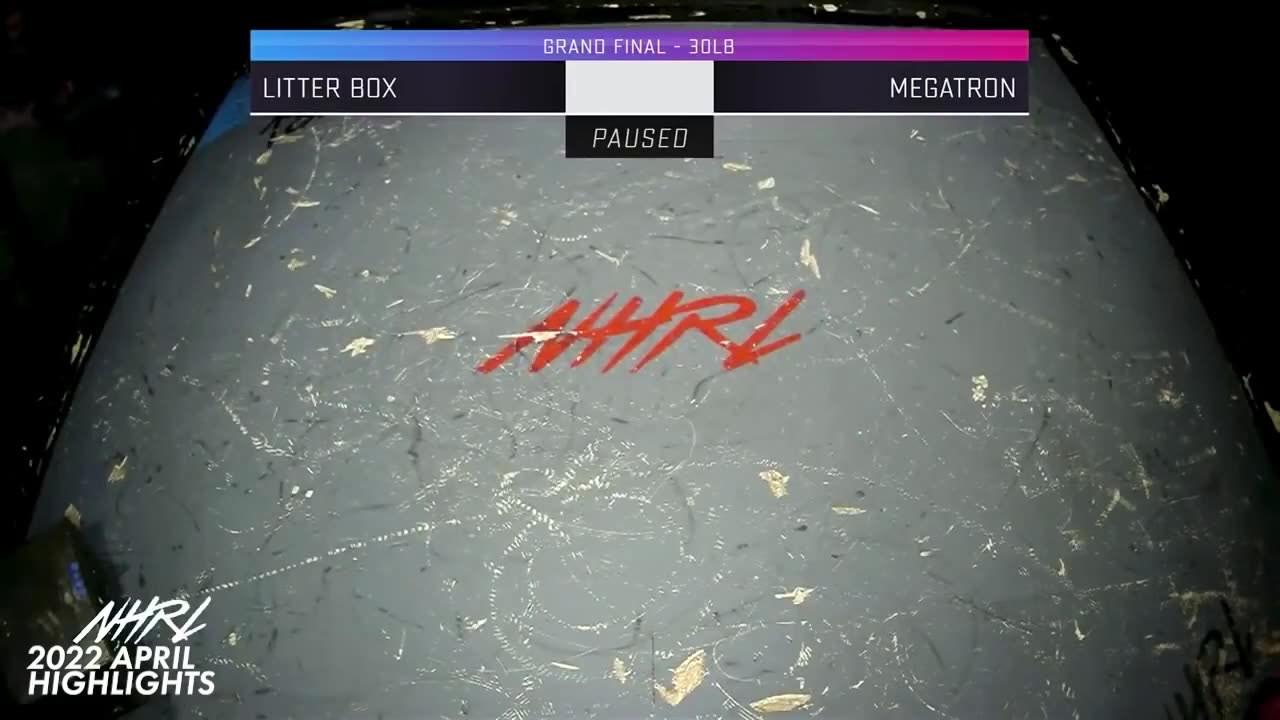combatbot: (261, 119, 311, 145)
housebot: (0, 522, 125, 692)
